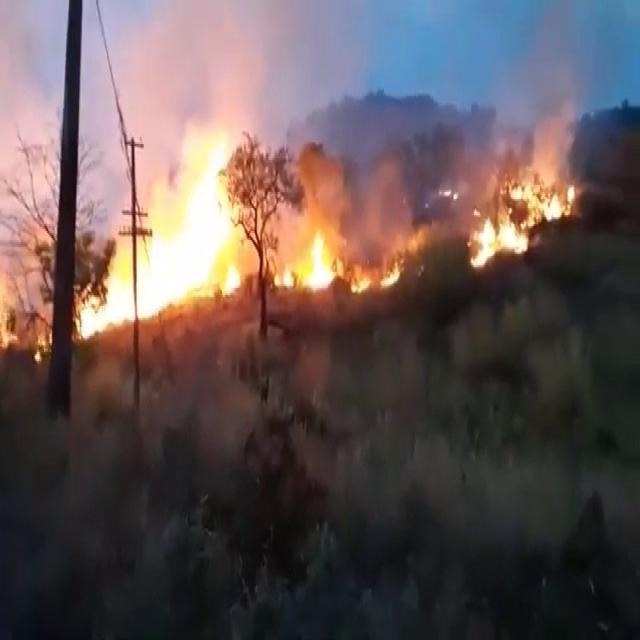Fire: (79, 142, 250, 332), (277, 229, 341, 290), (469, 216, 531, 268), (508, 178, 571, 228), (356, 258, 400, 296), (380, 261, 403, 290)
Smoke: (248, 5, 378, 138), (0, 9, 60, 240), (529, 20, 592, 120), (362, 151, 413, 252), (536, 82, 592, 162), (491, 58, 524, 164)
